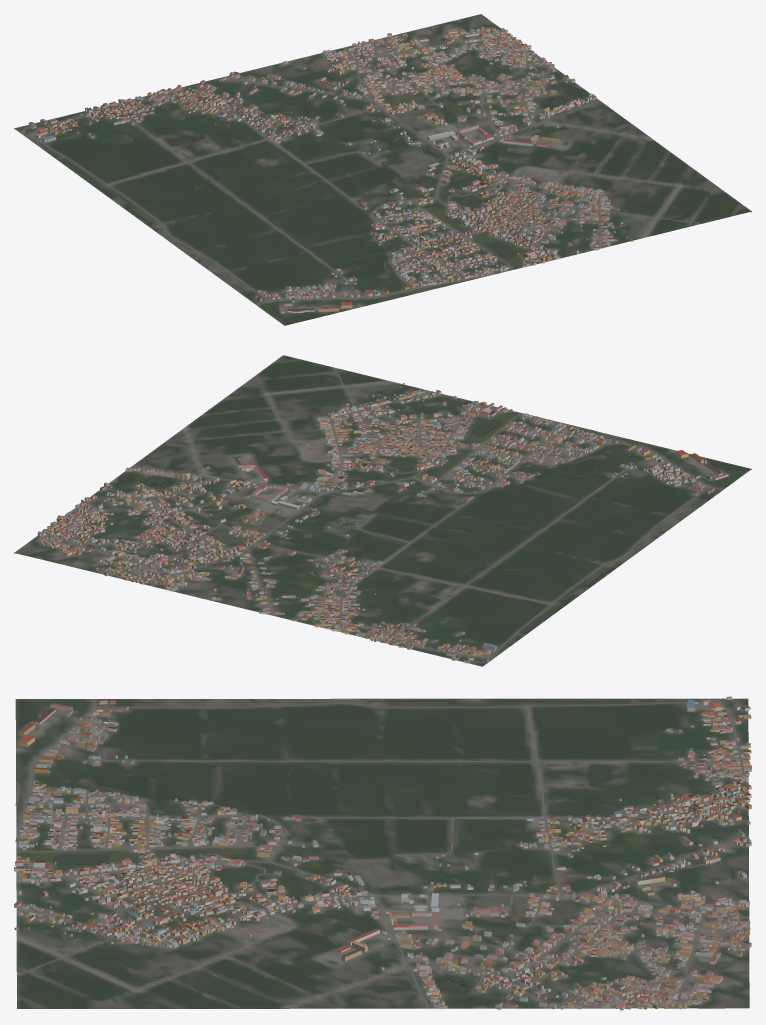
3 renders of one model, top to bottom at view 1: azimuth 30°, elevation 25°; view 2: azimuth 150°, elevation 25°; view 3: azimuth 270°, elevation 25°, orthographic. The views are drawn at different scales.
Visible parts, largest first — view 1: ground, buildings, roads; view 2: ground, buildings, roads; view 3: ground, buildings, roads, water.
Part boxes in pixels (bbox=[...]): ground: bbox=[14, 14, 751, 325]; buildings: bbox=[20, 26, 633, 313]; roads: bbox=[23, 27, 701, 305]; ground: bbox=[14, 355, 751, 666]; buildings: bbox=[37, 383, 728, 663]; roads: bbox=[46, 367, 723, 659]; ground: bbox=[15, 698, 749, 1008]; buildings: bbox=[14, 696, 751, 1010]; roads: bbox=[15, 698, 749, 1008]; water: bbox=[54, 854, 546, 995].
Size of the model in its own units: 1413 by 18.7 by 1412.
